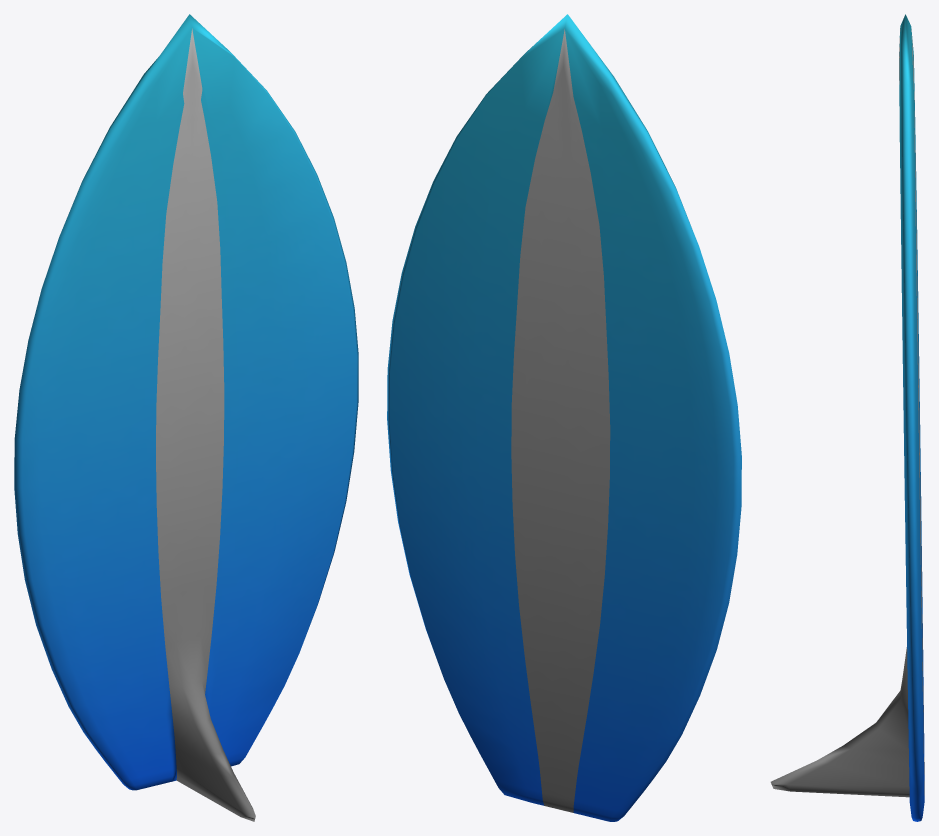
The model's file is tabla1.fbx.
The picture shows the model from 3 angles, left to right: view 1: azimuth 30°, elevation 25°; view 2: azimuth 150°, elevation 25°; view 3: azimuth 270°, elevation 25°; orthographic projection. The views are drawn at different scales.
Visible parts, largest first — view 1: tabla1; view 2: tabla1; view 3: tabla1.
Boxes of the visible parts, x1,y1,x2,y2 form: tabla1: (14, 14, 358, 821); tabla1: (387, 14, 741, 821); tabla1: (770, 14, 924, 821).
Bounding box in the file's own units: 81.87 × 174 × 31.13.
Materials: 1 (1 with a texture image).
